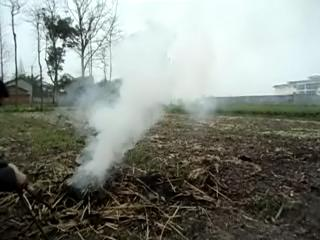yanwu: (65, 24, 217, 186)
